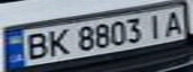0: (109, 19, 130, 46)
3: (124, 16, 148, 43)
8: (90, 20, 112, 50), (75, 24, 96, 52)
A: (160, 8, 190, 37)
B: (18, 30, 51, 62)
I: (142, 11, 169, 39)
K: (42, 27, 72, 57)
